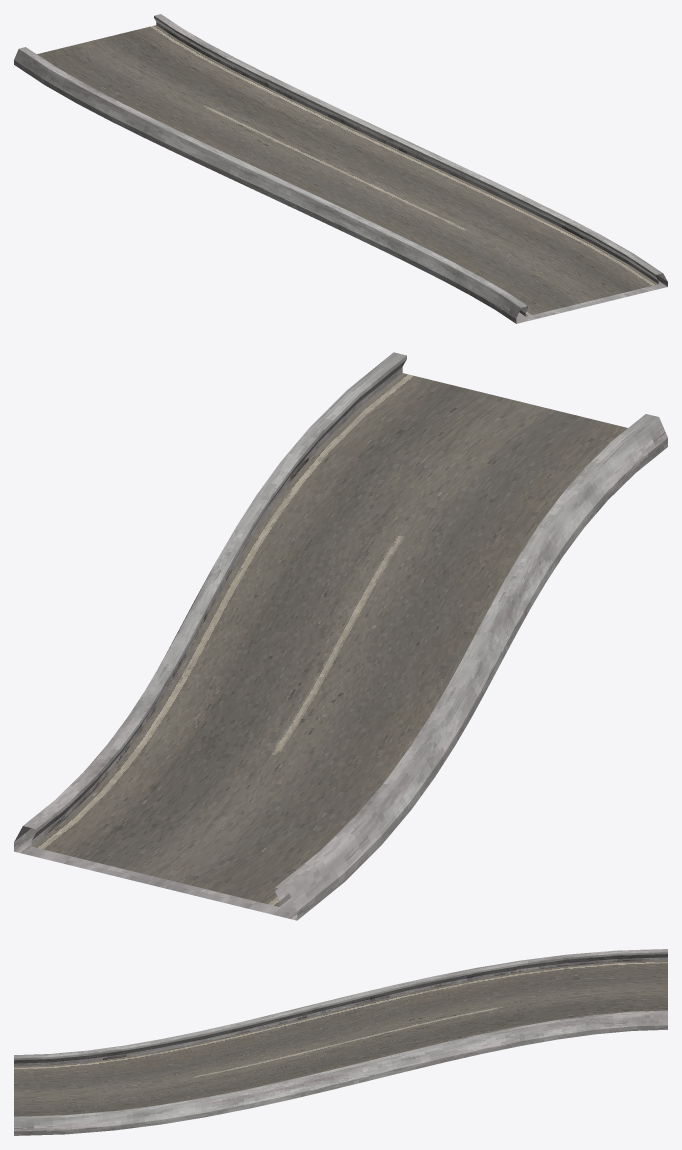
The model's file is chicane-left1x4.glb.
3 views of the same model, one above another, from view 1: azimuth 30°, elevation 25°; view 2: azimuth 150°, elevation 25°; view 3: azimuth 270°, elevation 25° (orthographic). The views are drawn at different scales.
Visible parts, largest first — view 1: road-Chicane-Flat-Flat-Up1-Left1-Size4; view 2: road-Chicane-Flat-Flat-Up1-Left1-Size4; view 3: road-Chicane-Flat-Flat-Up1-Left1-Size4.
Part boxes in pixels (x1,y1,x2,y2): road-Chicane-Flat-Flat-Up1-Left1-Size4: (14, 14, 667, 323); road-Chicane-Flat-Flat-Up1-Left1-Size4: (14, 352, 667, 920); road-Chicane-Flat-Flat-Up1-Left1-Size4: (14, 949, 667, 1135).
Bounding box in the file's own units: 2 × 0.3438 × 4.
2 materials, 2 textured.
